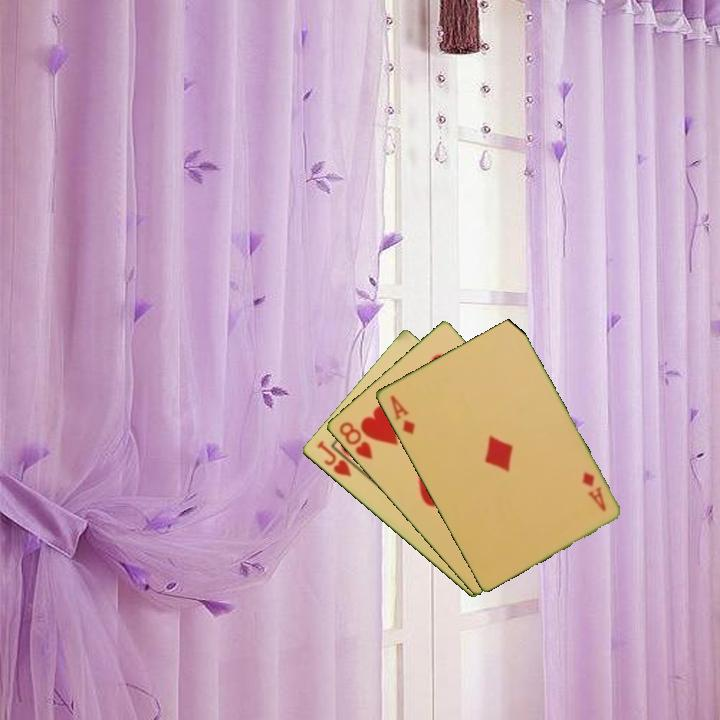8h: (335, 418, 375, 463)
Ad: (386, 391, 418, 437), (578, 468, 609, 514)
Jh: (313, 437, 363, 480)
